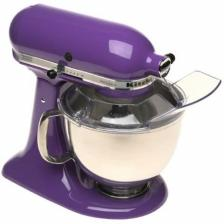purple: (2, 133, 168, 219), (9, 4, 166, 80), (32, 84, 50, 132)
